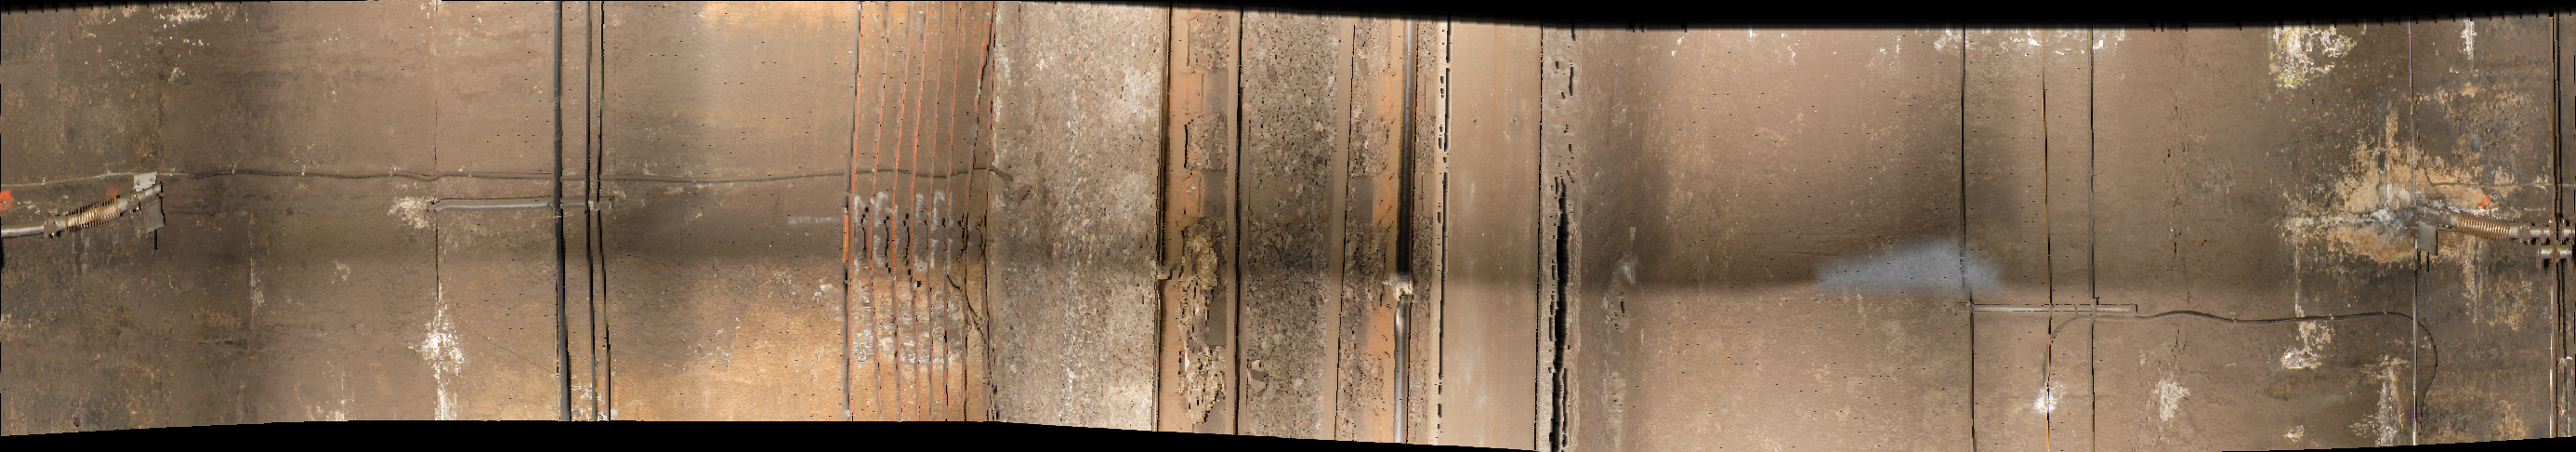pipes: (547, 2, 611, 427), (2078, 28, 2109, 452), (2545, 16, 2576, 431), (1952, 33, 1981, 452), (2035, 31, 2062, 452)
tracks: (991, 3, 1539, 452)
